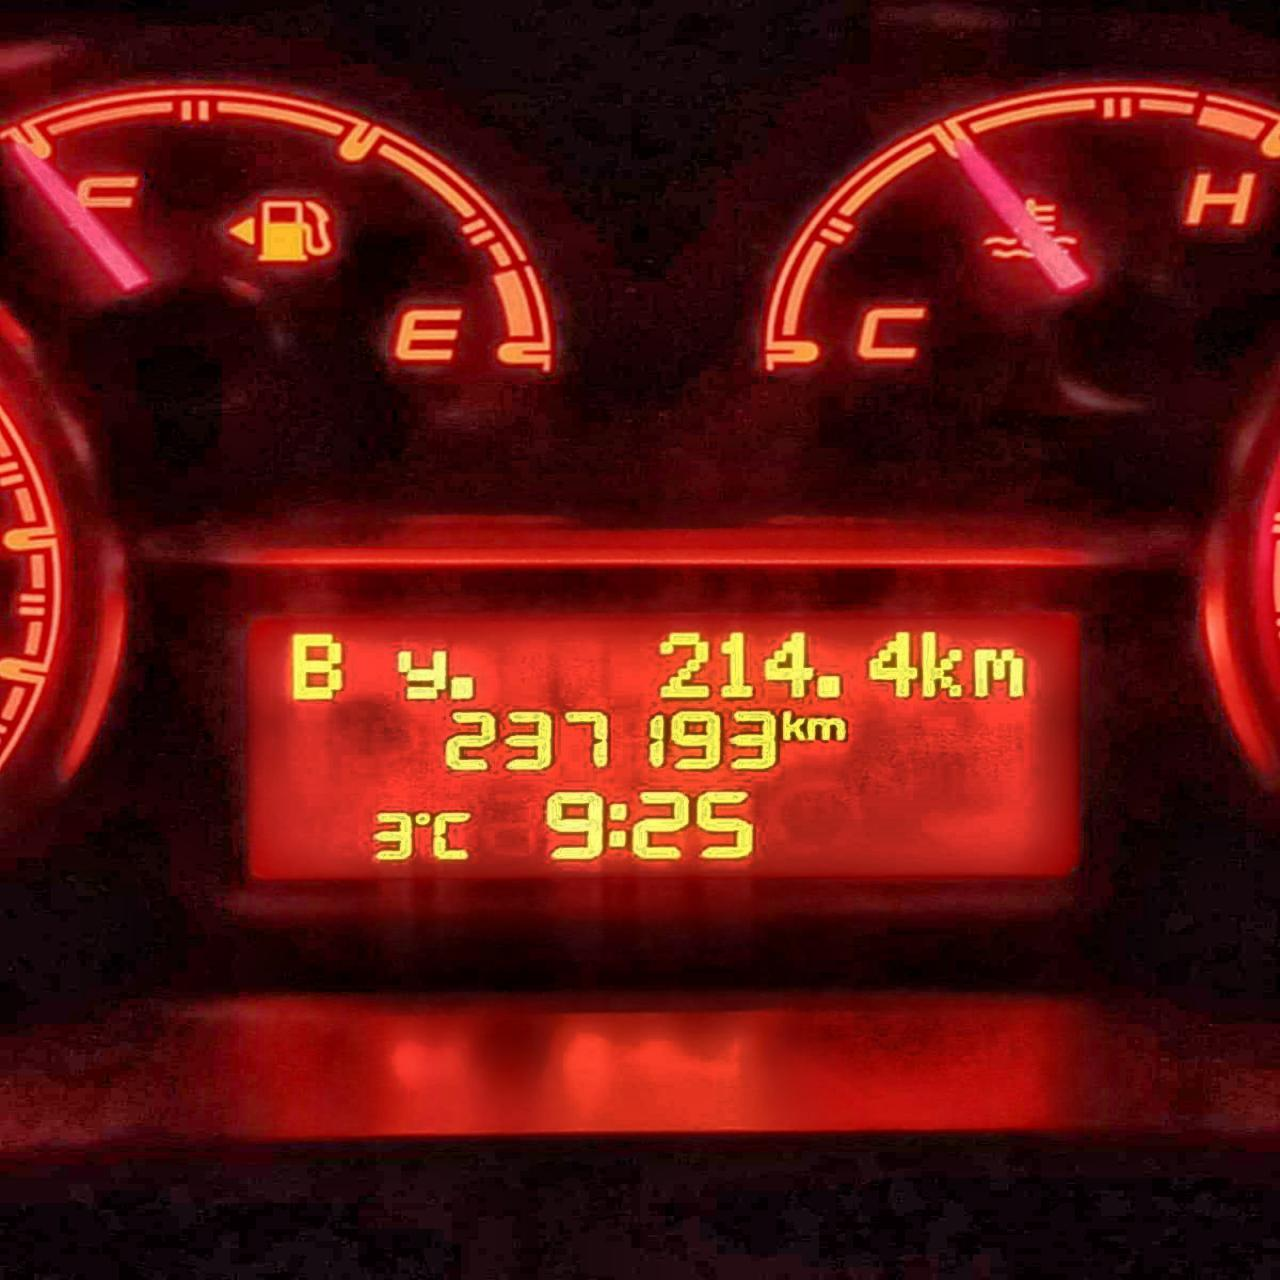-: (447, 675, 477, 700), (813, 674, 843, 699)
1: (716, 628, 755, 700), (645, 713, 668, 769)
2: (628, 790, 690, 859), (656, 631, 710, 699), (443, 712, 496, 770)
3: (502, 710, 552, 771), (727, 710, 777, 770), (370, 811, 414, 862)
4: (762, 629, 816, 699), (866, 629, 919, 700)
5: (693, 790, 756, 859)
7: (559, 710, 608, 768)
9: (543, 790, 607, 859), (668, 709, 722, 769)
X: (287, 632, 343, 701), (920, 629, 962, 697), (395, 648, 448, 700), (971, 647, 1024, 697), (429, 810, 471, 860), (803, 716, 846, 742), (606, 802, 627, 849), (778, 709, 805, 742)
odometer: (237, 610, 1087, 887)
